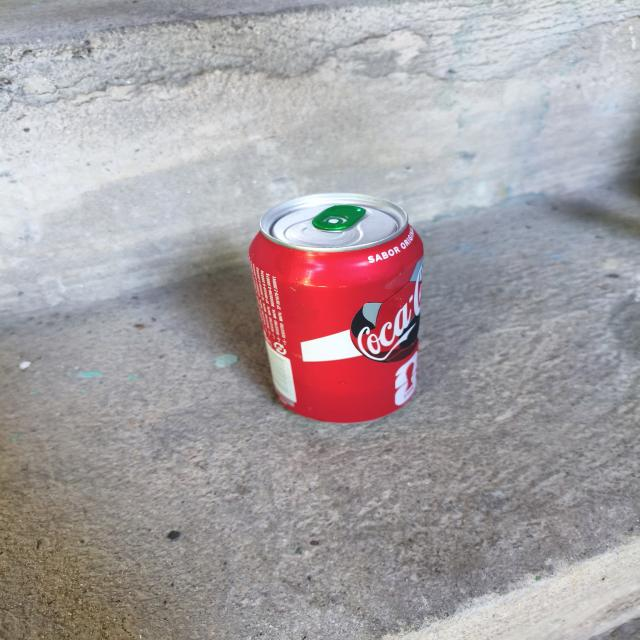Coca Cola: (174, 148, 491, 470)
